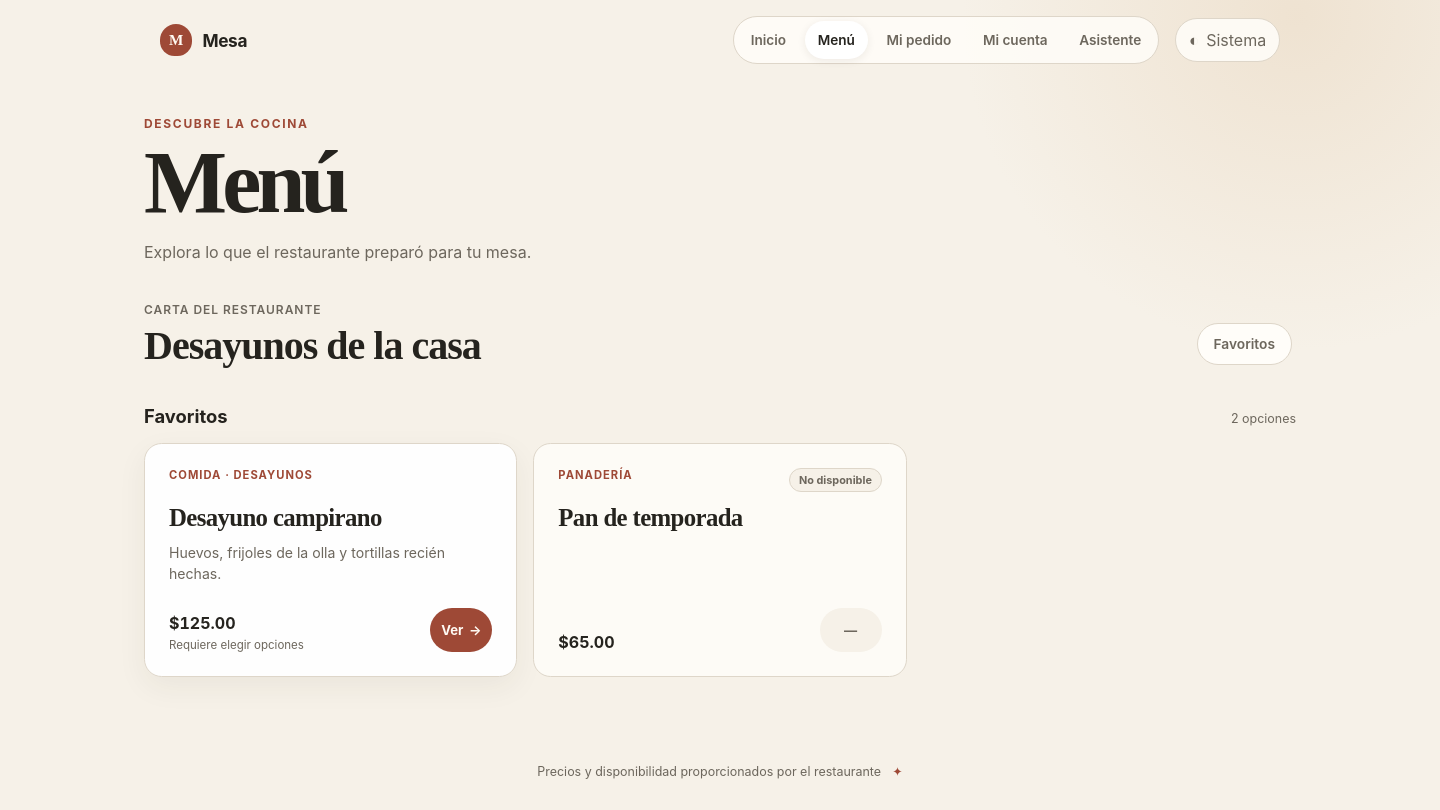
menu browsing › navigates an orderable product to the Product Detail route boundary
This screenshot has width=1440, height=810.
Click the link with aria-label "Ver Desayuno campirano".
click(461, 630)  # box [430,608,492,652]
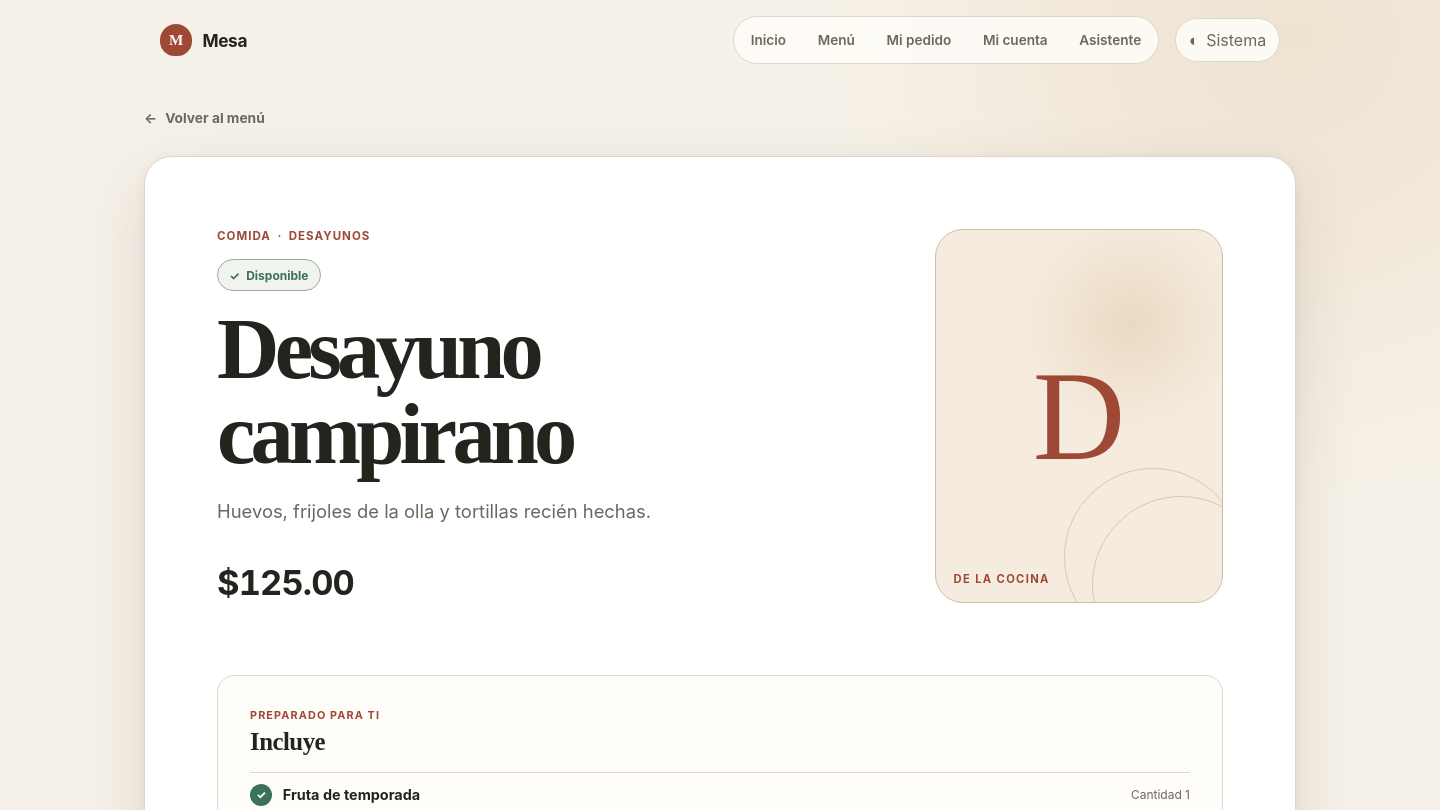
expect the text "$125.00" is shown: met, box [217,562,354,603]
expect the heading "Desayuno campirano" is shown: met, box [217,301,573,482]
